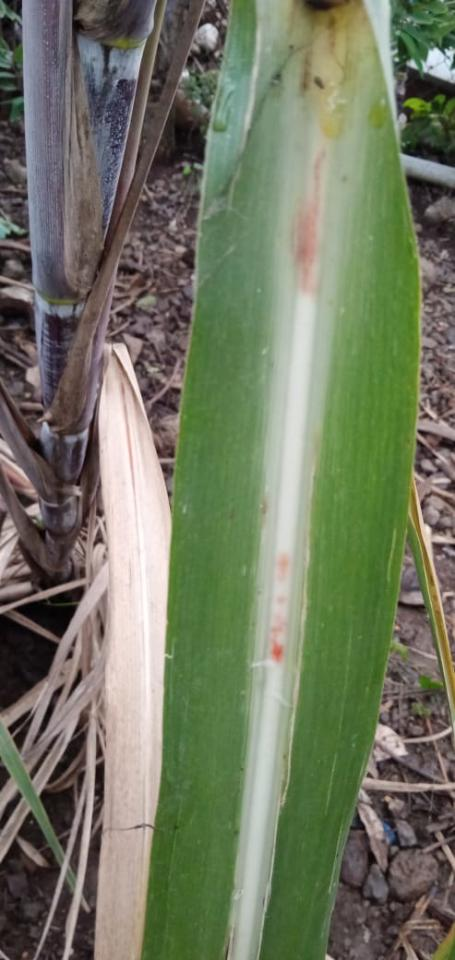RedRot: (288, 132, 331, 302), (264, 614, 287, 675), (276, 549, 292, 587)
